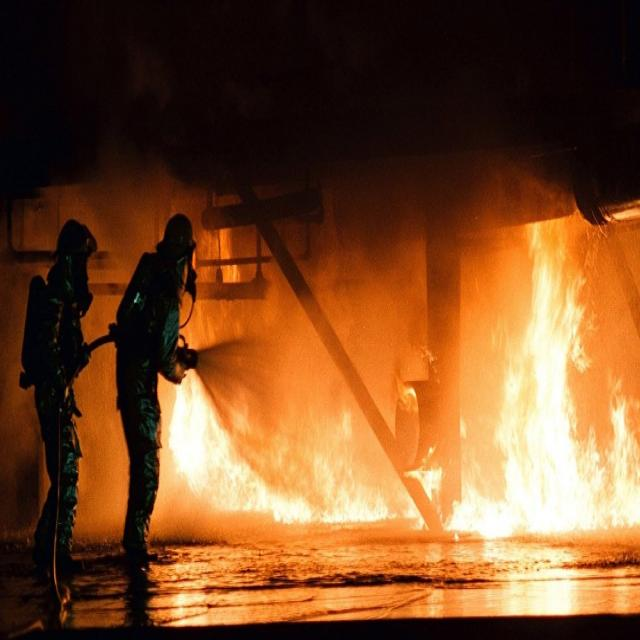Fire: (412, 215, 640, 537), (150, 329, 426, 541)
Smoke: (0, 159, 226, 549)
